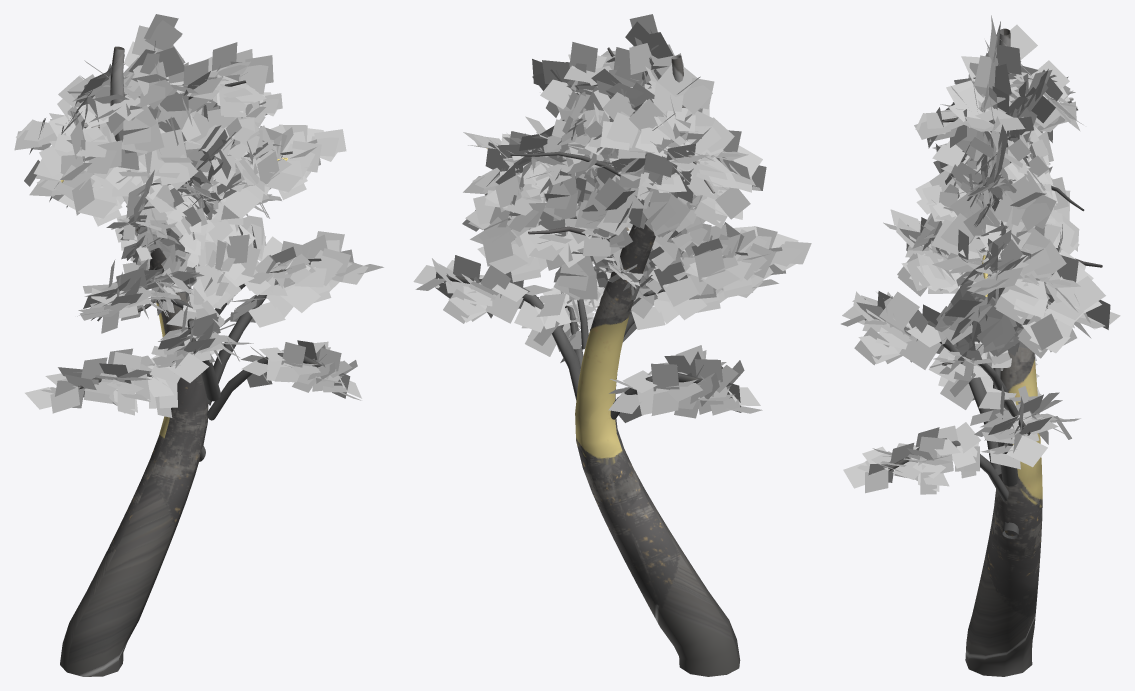
Rendered from arbre_orange_pivot3.fbx.
3 views of the same model, side by side, from view 1: azimuth 30°, elevation 25°; view 2: azimuth 150°, elevation 25°; view 3: azimuth 270°, elevation 25° (orthographic). The views are drawn at different scales.
Parts seen in each view (by area): view 1: arbre_orange_3_plane; view 2: arbre_orange_3_plane; view 3: arbre_orange_3_plane.
Part boxes in pixels (box(x1,y1,x2,y2)): arbre_orange_3_plane: box(14, 14, 383, 676); arbre_orange_3_plane: box(413, 14, 811, 676); arbre_orange_3_plane: box(841, 15, 1120, 676).
Bounding box in the file's own units: 23.13 × 40.81 × 15.26.
